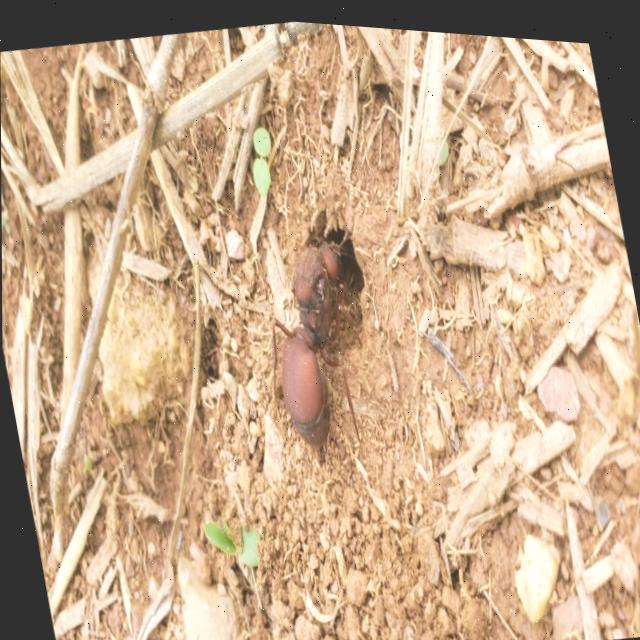Alive-Female-Dealate: (243, 228, 380, 452)
